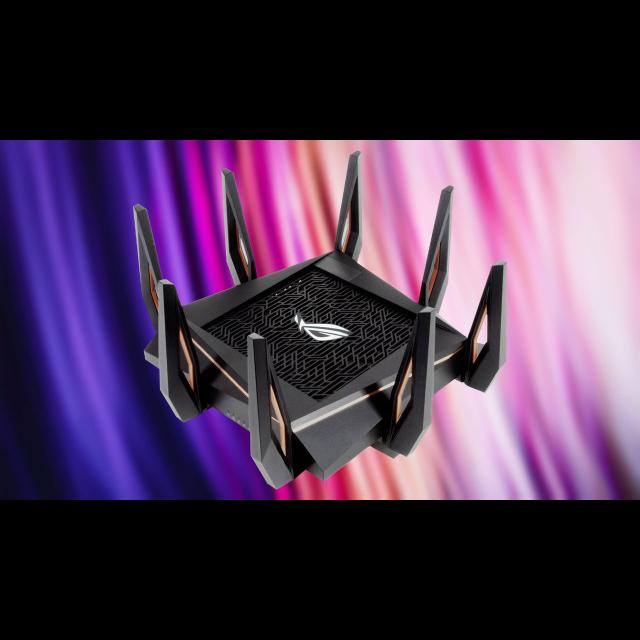Router: (125, 149, 518, 491)
